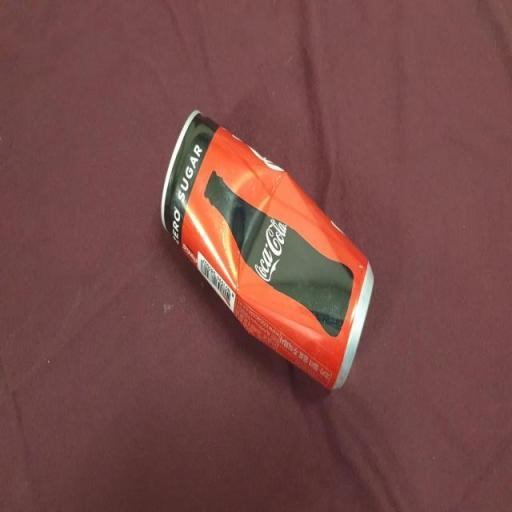metal: (138, 90, 401, 420)
